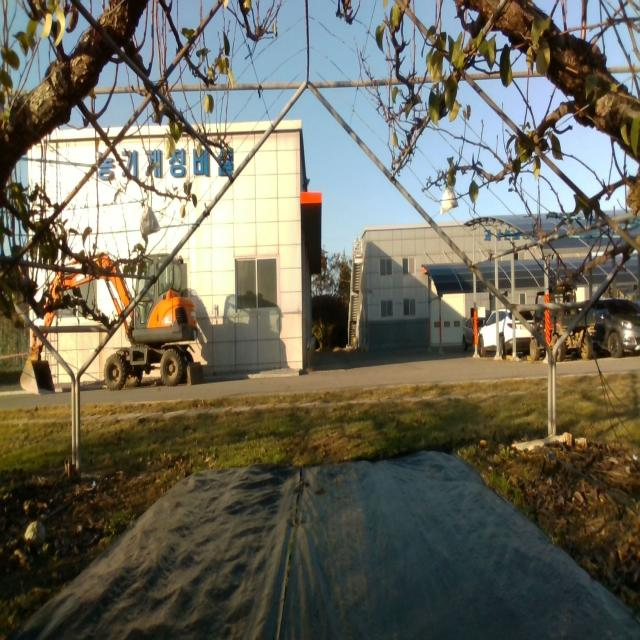pearbags: (140, 202, 161, 238), (440, 184, 459, 214)
